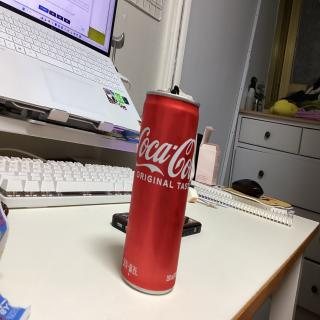cocacola: (118, 84, 206, 299)
